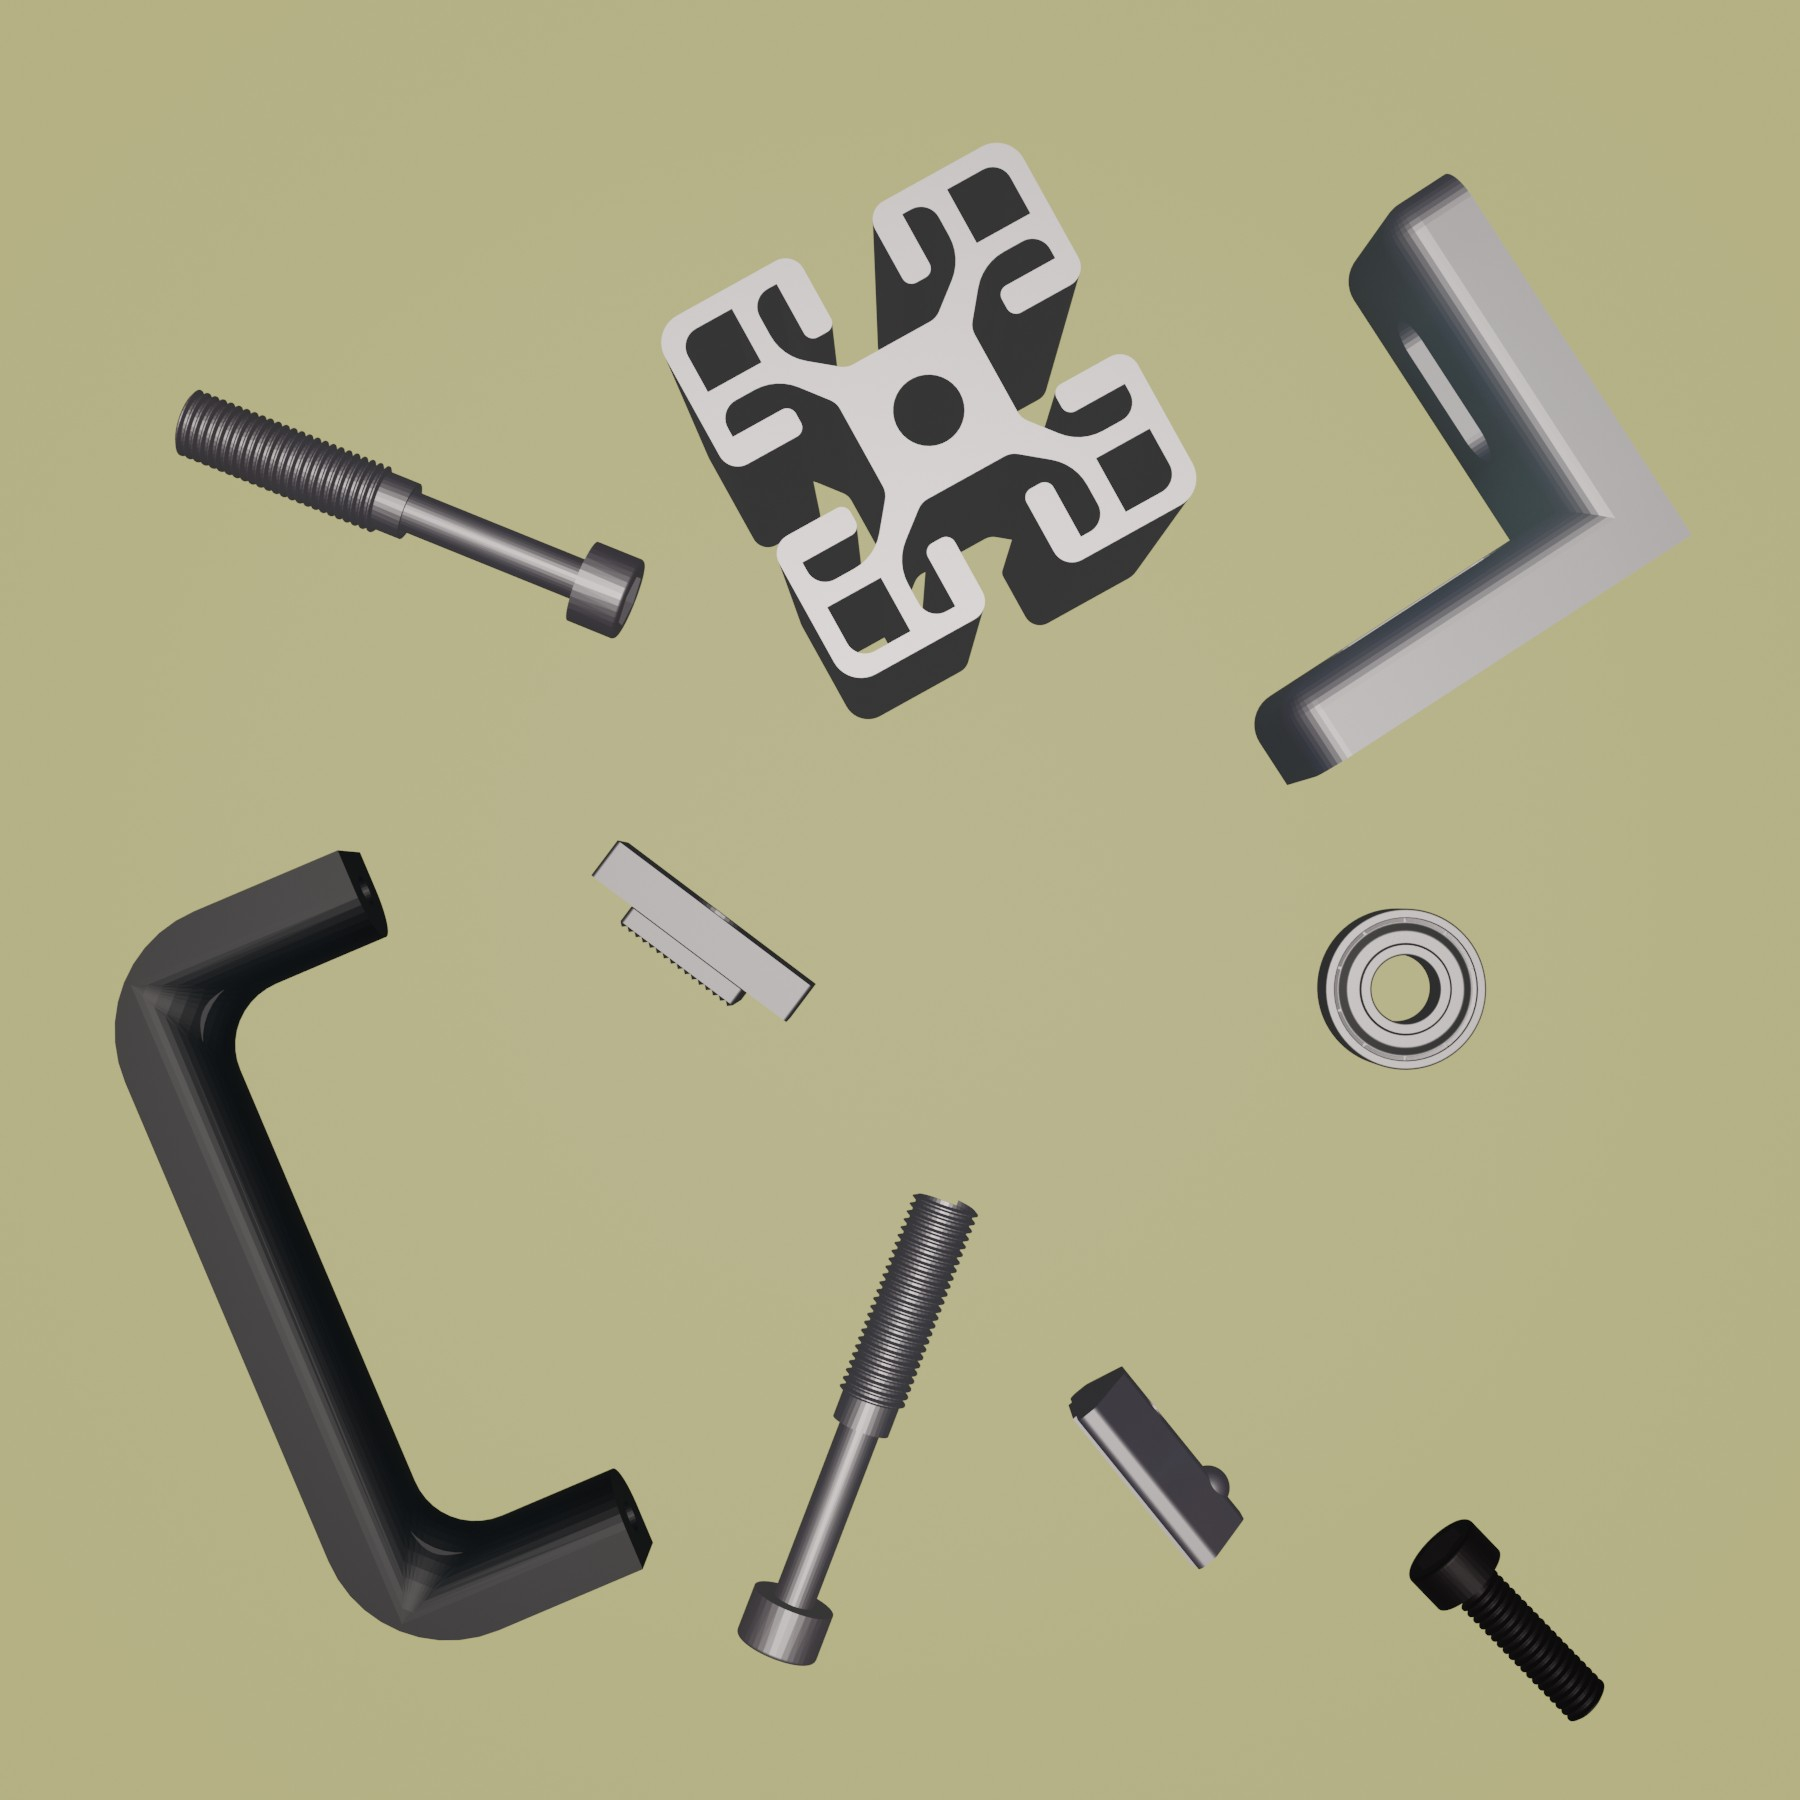Aluminium Extension: (659, 138, 1200, 720)
Ball Bearing: (1315, 903, 1488, 1071)
Multiwinkel: (1253, 171, 1698, 788)
Pull Handle: (110, 846, 654, 1643)
Shoulder Socket Head Cap Screw: (173, 386, 648, 641), (737, 1187, 979, 1668)
Socket Head Cap Screw: (1406, 1513, 1605, 1724)
T Nut Square: (588, 837, 818, 1024)
T Spring Nut: (1066, 1363, 1246, 1573)
